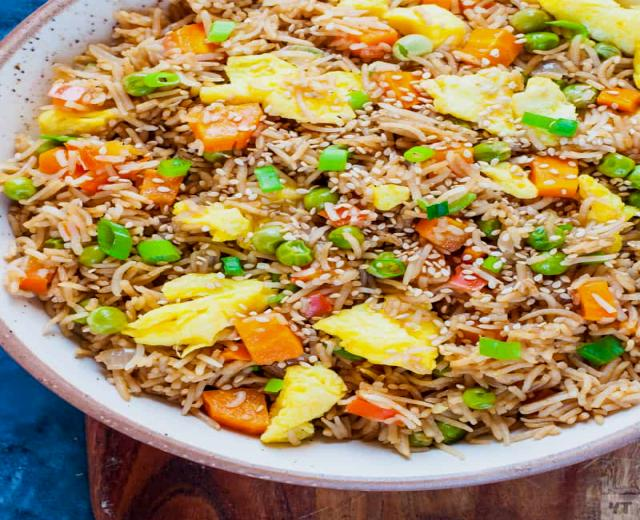fried rice: (3, 14, 625, 520)
